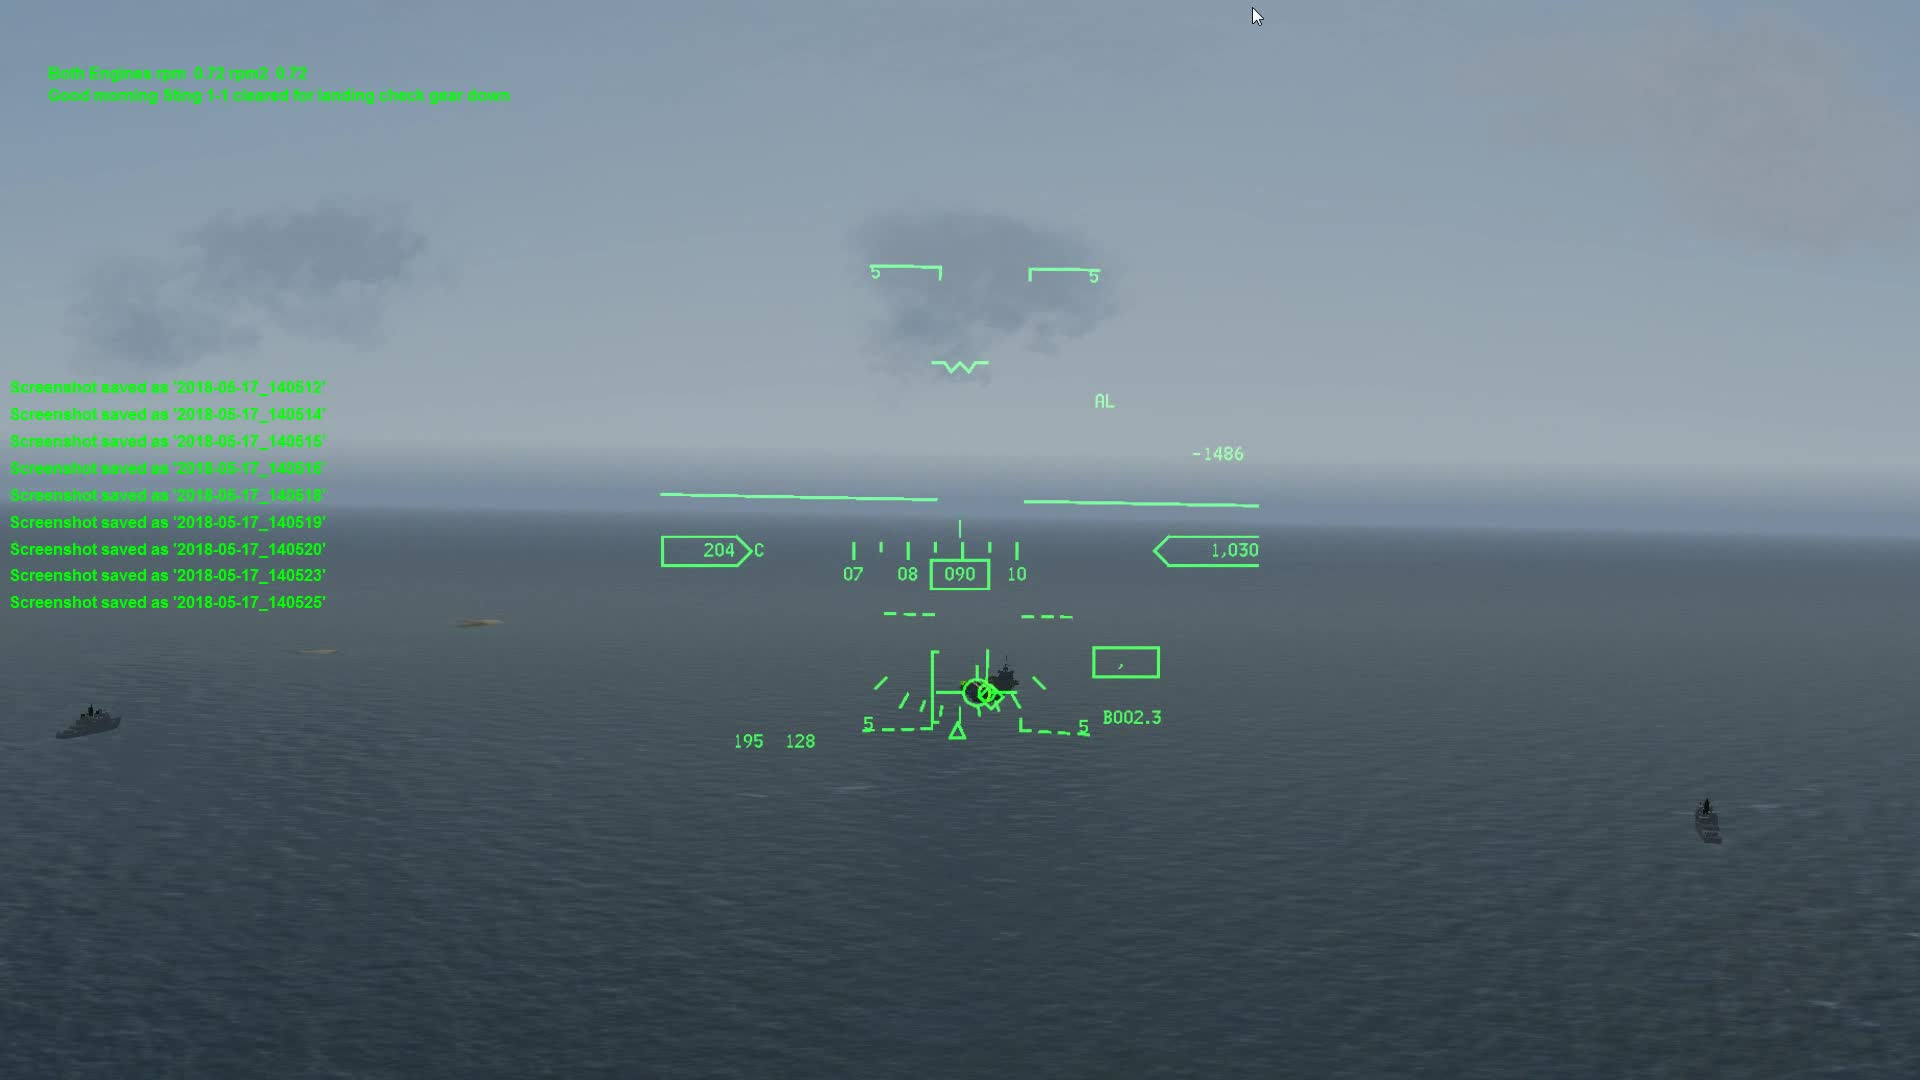speed vector: (938, 651, 1018, 713)
